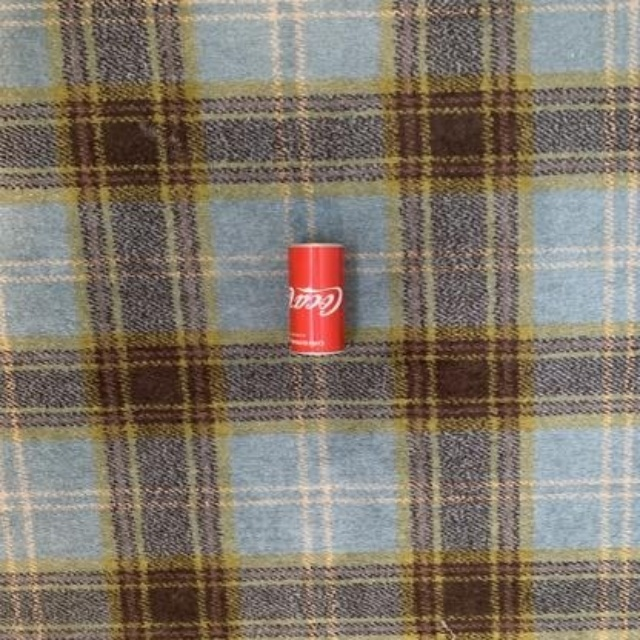trash: (288, 243, 343, 354)
